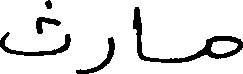ا: (131, 5, 143, 61)
ث: (0, 0, 70, 56)
ر: (76, 35, 115, 73)
م: (205, 34, 241, 59)
